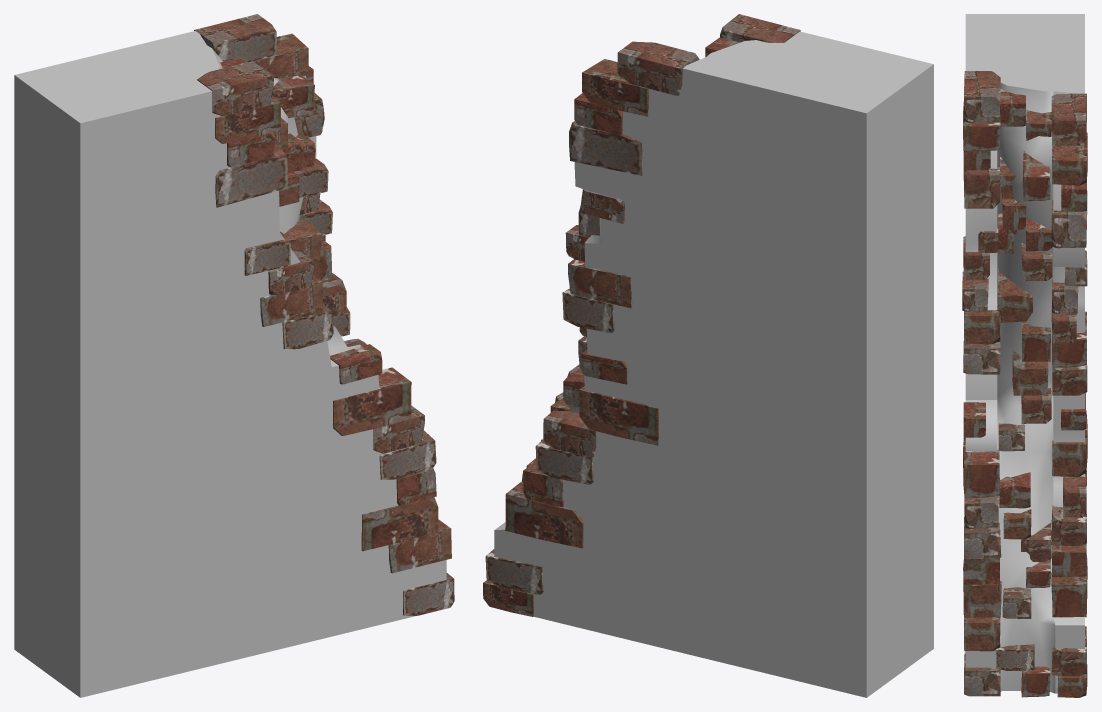
Rendered from SM_Wall_Thick_Ruined_06.fbx.
3 views of the same model, side by side, from view 1: azimuth 30°, elevation 25°; view 2: azimuth 150°, elevation 25°; view 3: azimuth 270°, elevation 25° (orthographic). The views are drawn at different scales.
Parts seen in each view (by area): view 1: SM_Wall_Thick_Ruined_06_LOD0; view 2: SM_Wall_Thick_Ruined_06_LOD0; view 3: SM_Wall_Thick_Ruined_06_LOD0.
Part boxes in pixels (left/top/right/bottom): SM_Wall_Thick_Ruined_06_LOD0: left=14, top=14, right=454, bottom=697; SM_Wall_Thick_Ruined_06_LOD0: left=483, top=14, right=933, bottom=697; SM_Wall_Thick_Ruined_06_LOD0: left=962, top=14, right=1087, bottom=697.
Size of what is drawn, in the model's own units: 411 by 602 by 132.
